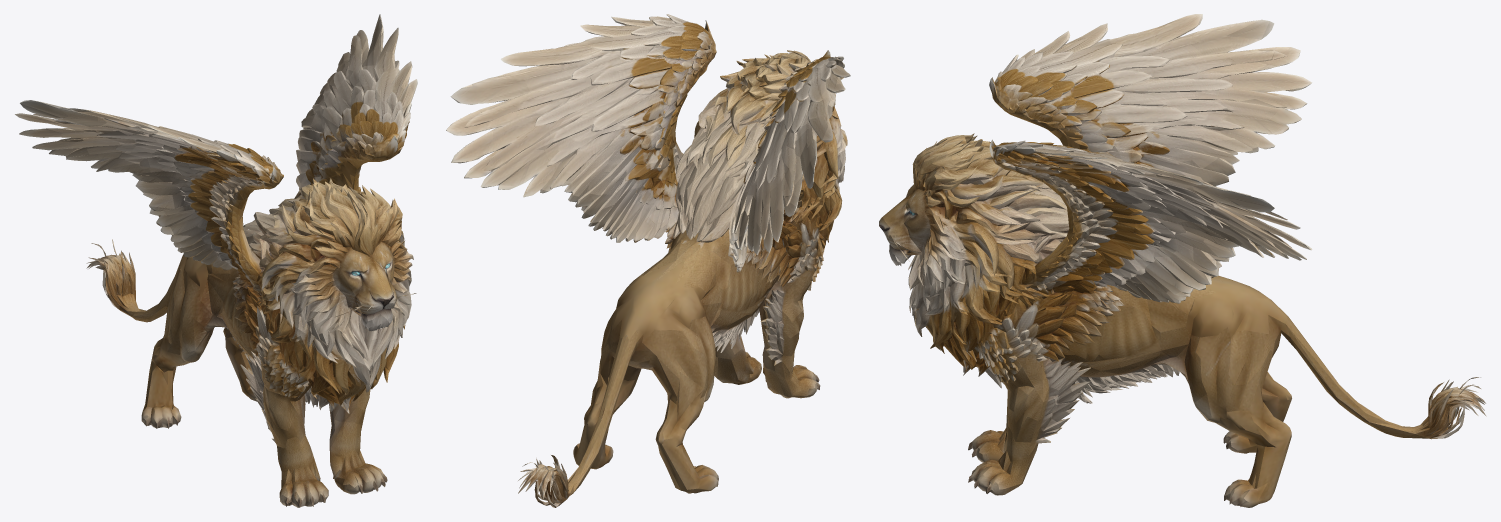
File: solmane_a.glb
3 renders of one model, left to right at view 1: azimuth 30°, elevation 25°; view 2: azimuth 150°, elevation 25°; view 3: azimuth 270°, elevation 25°, orthographic. The views are drawn at different scales.
Parts seen in each view (by area): view 1: Mesh_0; view 2: Mesh_0; view 3: Mesh_0.
Part boxes in pixels (box(x1,y1,x2,y2)): Mesh_0: box(15, 14, 417, 507); Mesh_0: box(446, 14, 850, 507); Mesh_0: box(879, 14, 1486, 507).
Size of the model in its own units: 1.37 by 1.33 by 1.9.
Materials: 1 (1 with a texture image).
